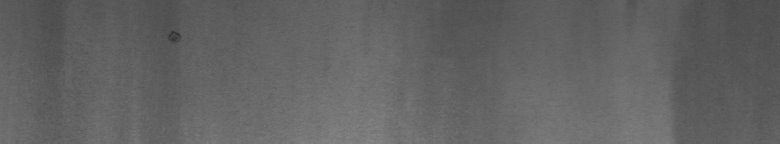fi: (168, 26, 184, 48)
